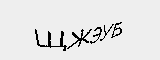Б: (111, 20, 125, 39)
Ж: (68, 25, 93, 49)
У: (100, 20, 112, 44)
Щ: (33, 28, 67, 52)
Э: (89, 22, 102, 47)
